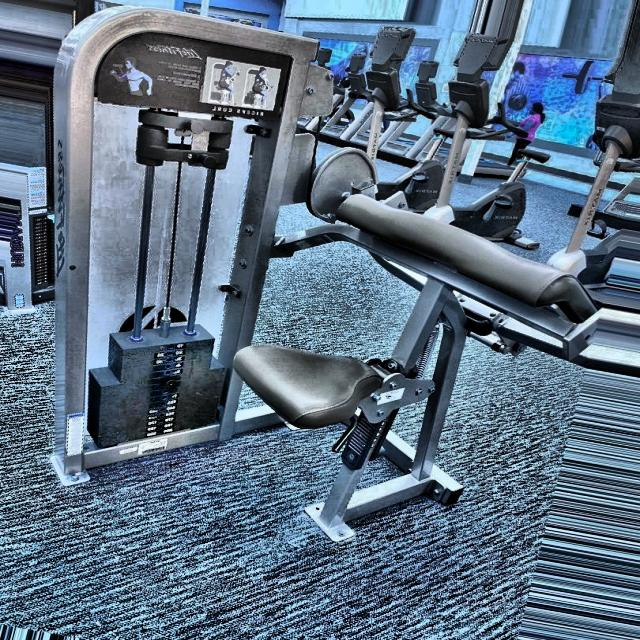bicep_curl_machine: (297, 140, 638, 399), (95, 27, 288, 126)
